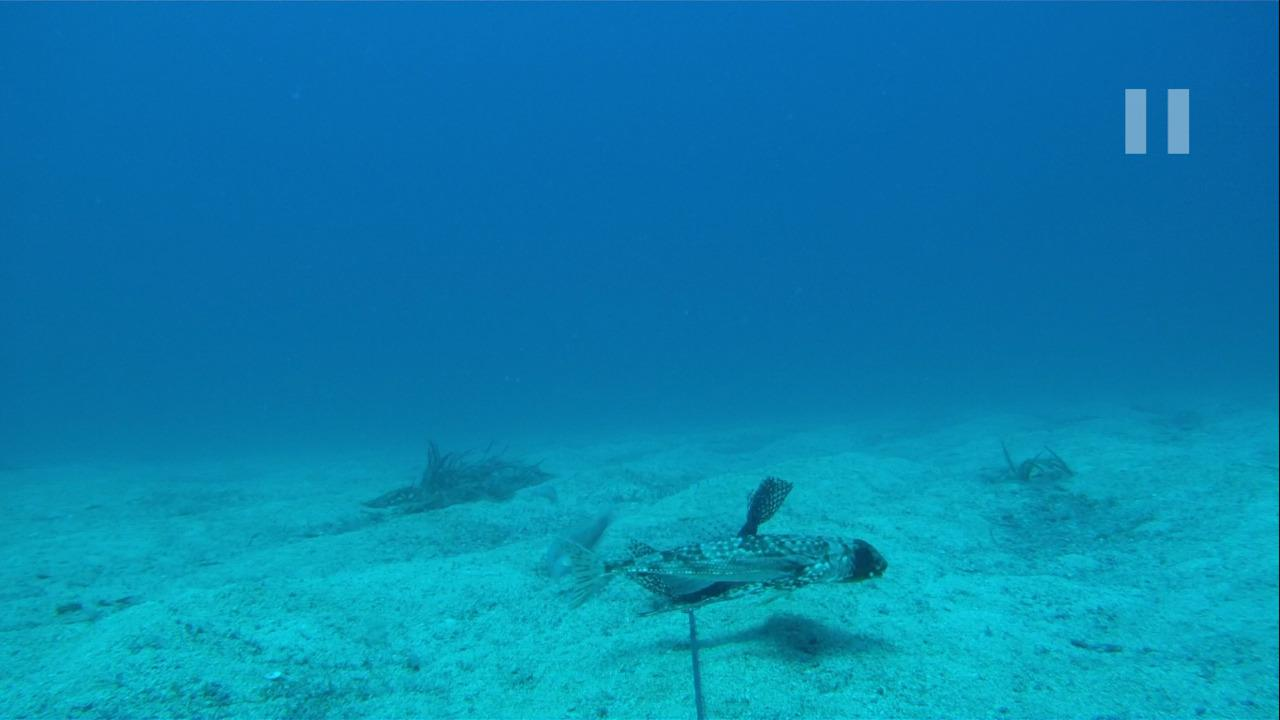dactylopterus: (548, 529, 891, 626)
raor: (526, 509, 618, 568)
